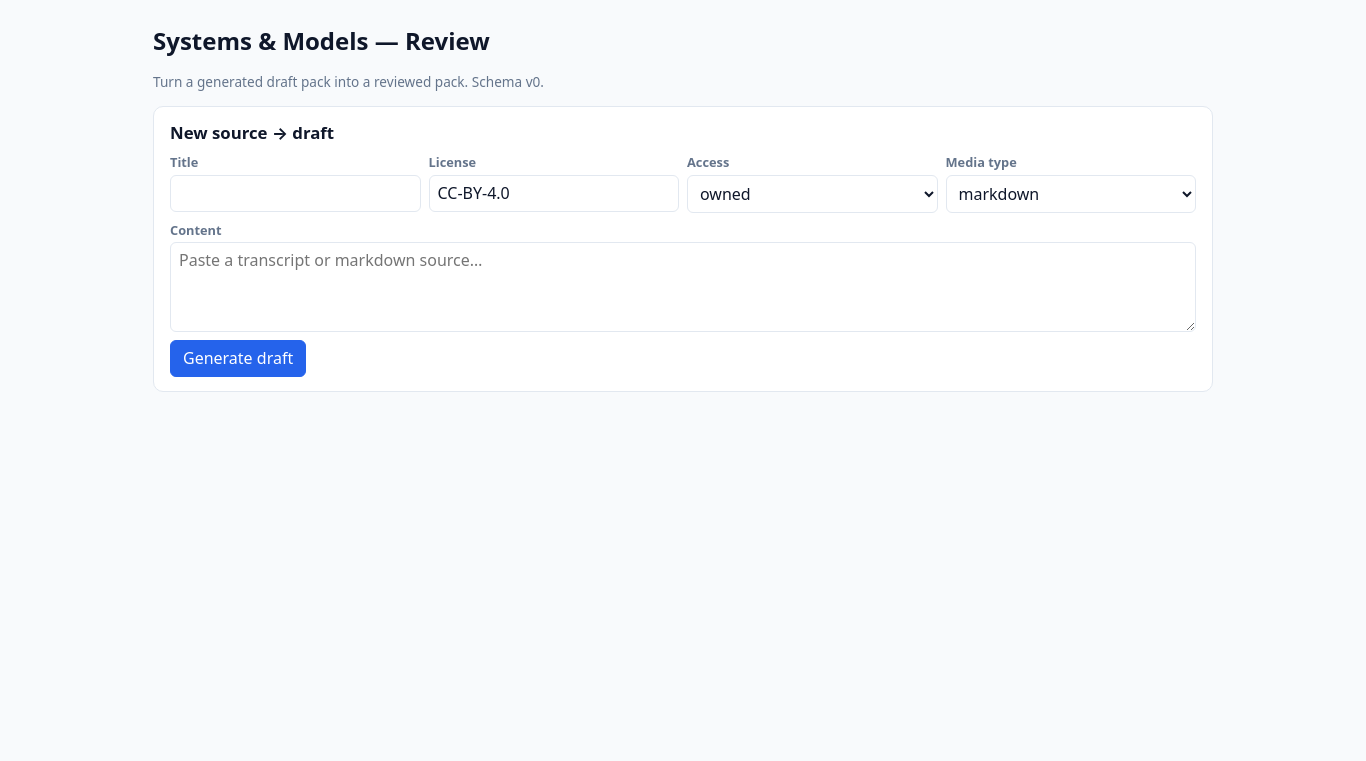
Test case: reviewed save › conflict (409) shows the returned validation errors and keeps editing
The image size is (1366, 761).
In the field labelled "Title": (295, 194) [170,175,420,212], type "Learning"
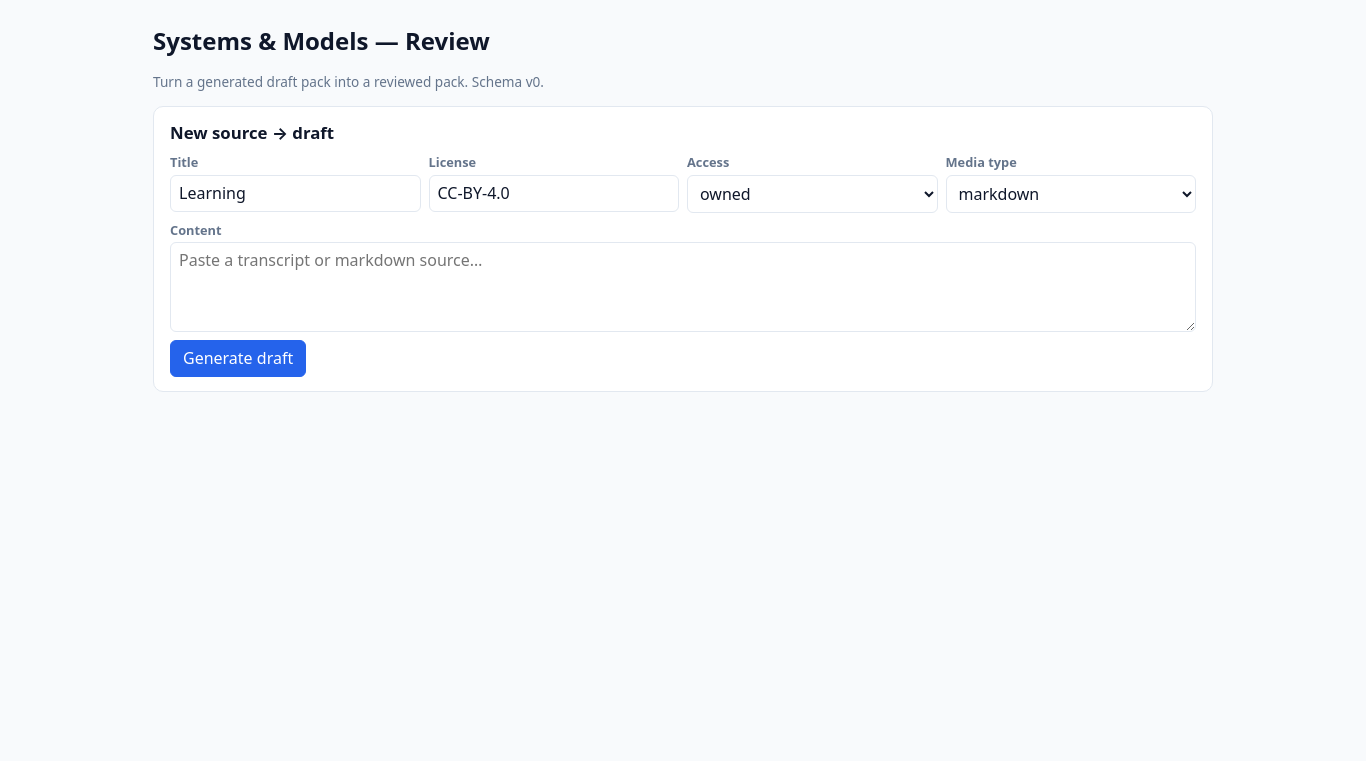
In the text box labelled "Content": (683, 287) [170,242,1196,332], type "spacing improves retention. memory decays over time."
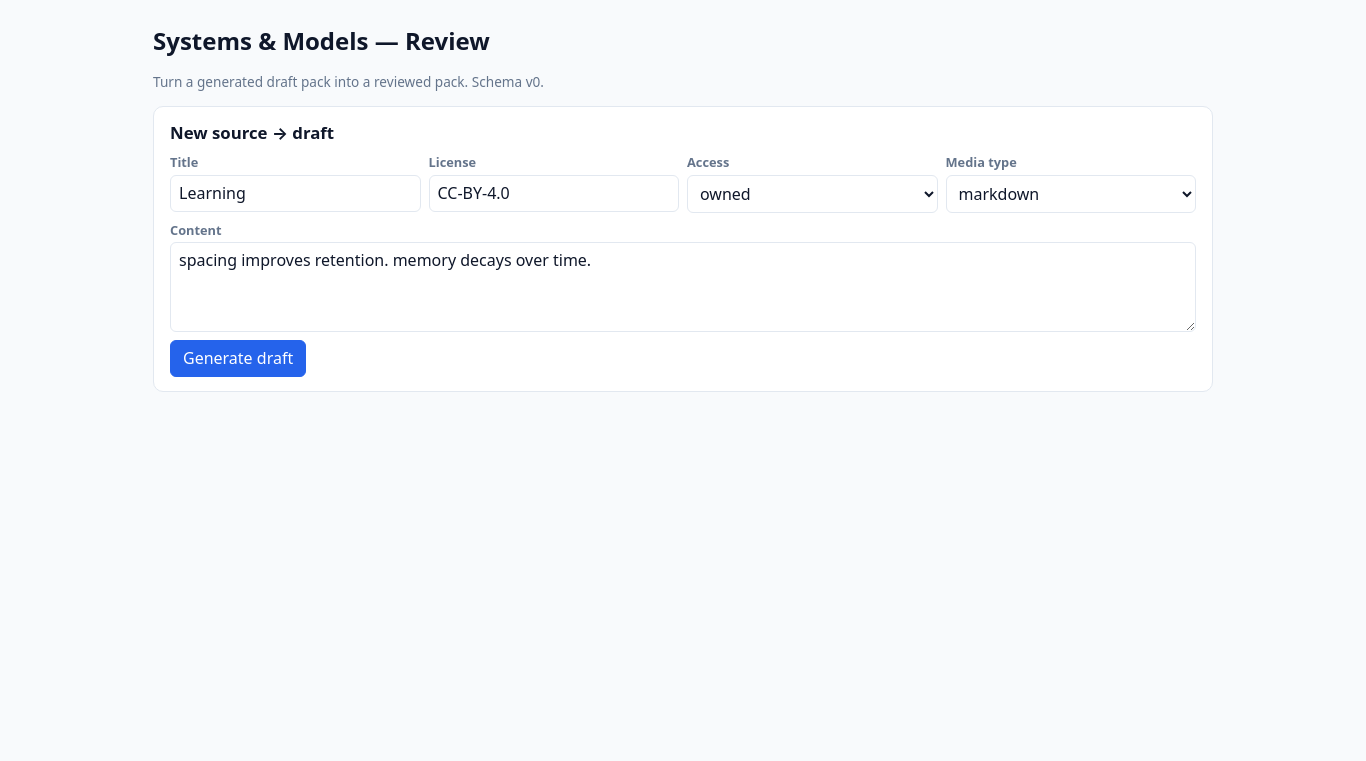
Click the button "Generate draft": (238, 359) [170,340,306,377]
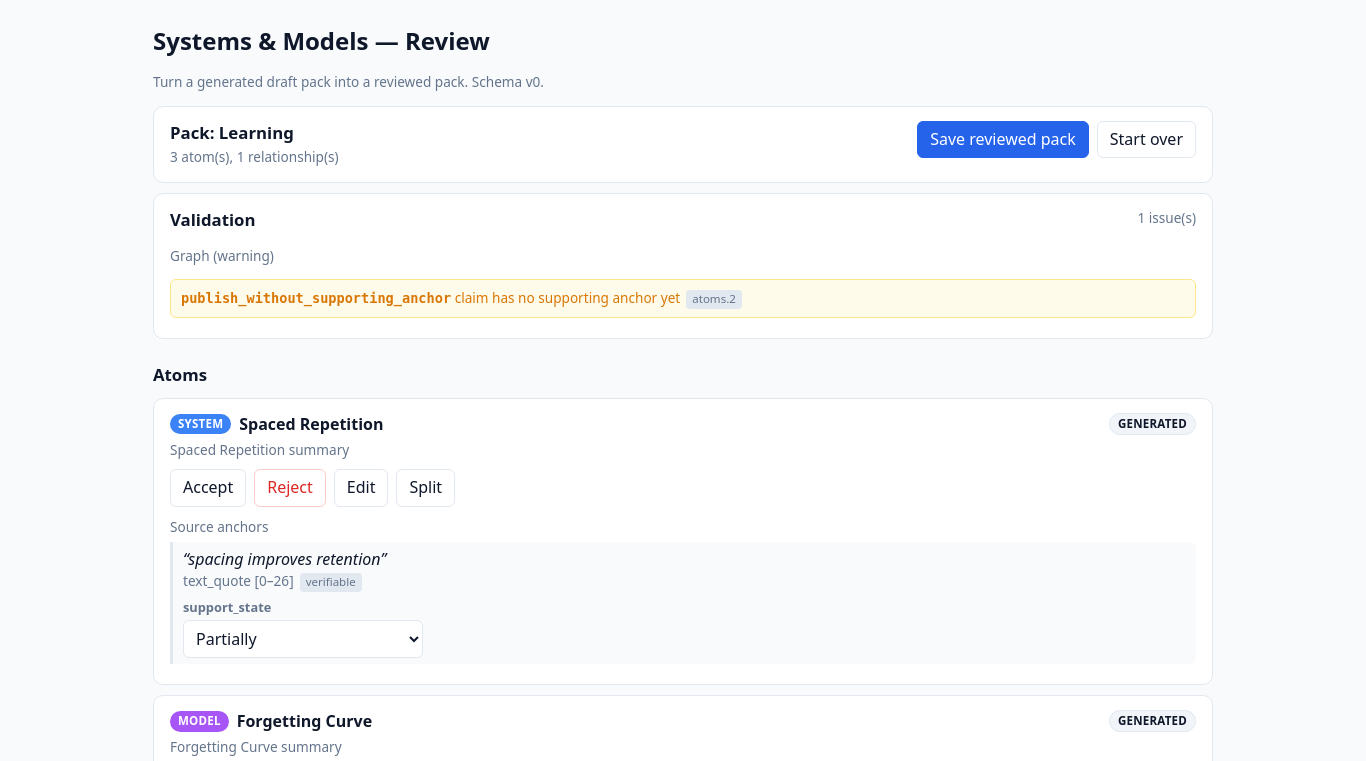
expect the heading "Pack: Learning" is shown: met, box [170,121,294,144]
Click the button with test id "save-reviewed": (1003, 139) [917,121,1089,158]
(page scrolled)
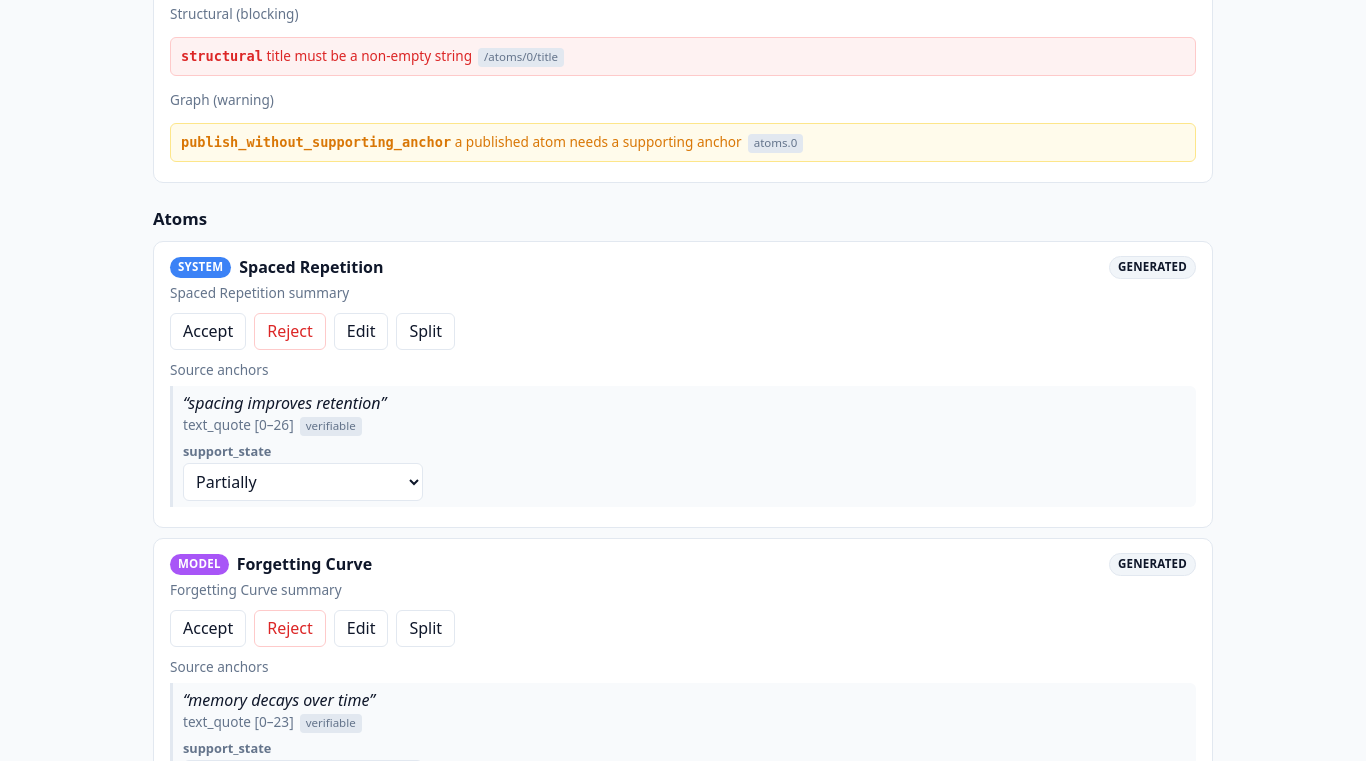
expect the element with test id "atom-card" that starts with "system" is shown: met, box [153,241,1213,528]
expect the list item "structural title must be a non-empty string /atoms/0/title" is shown: met, box [170,37,1196,76]
